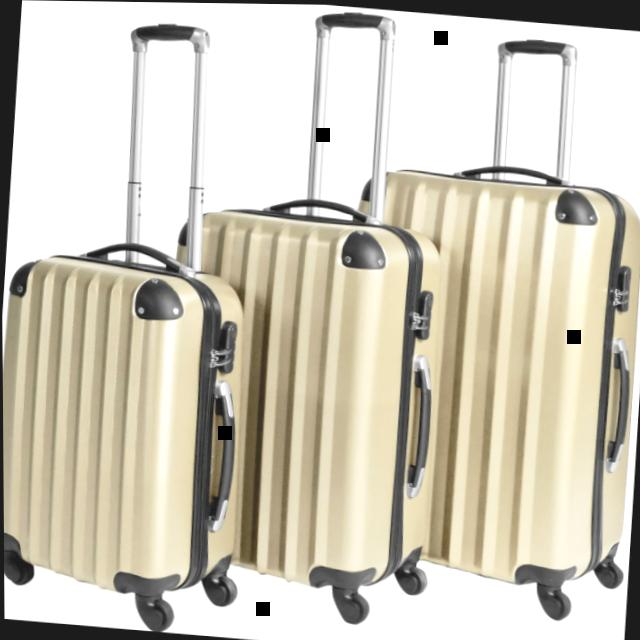luggage: (326, 150, 640, 599), (148, 194, 459, 601), (1, 232, 264, 606)
